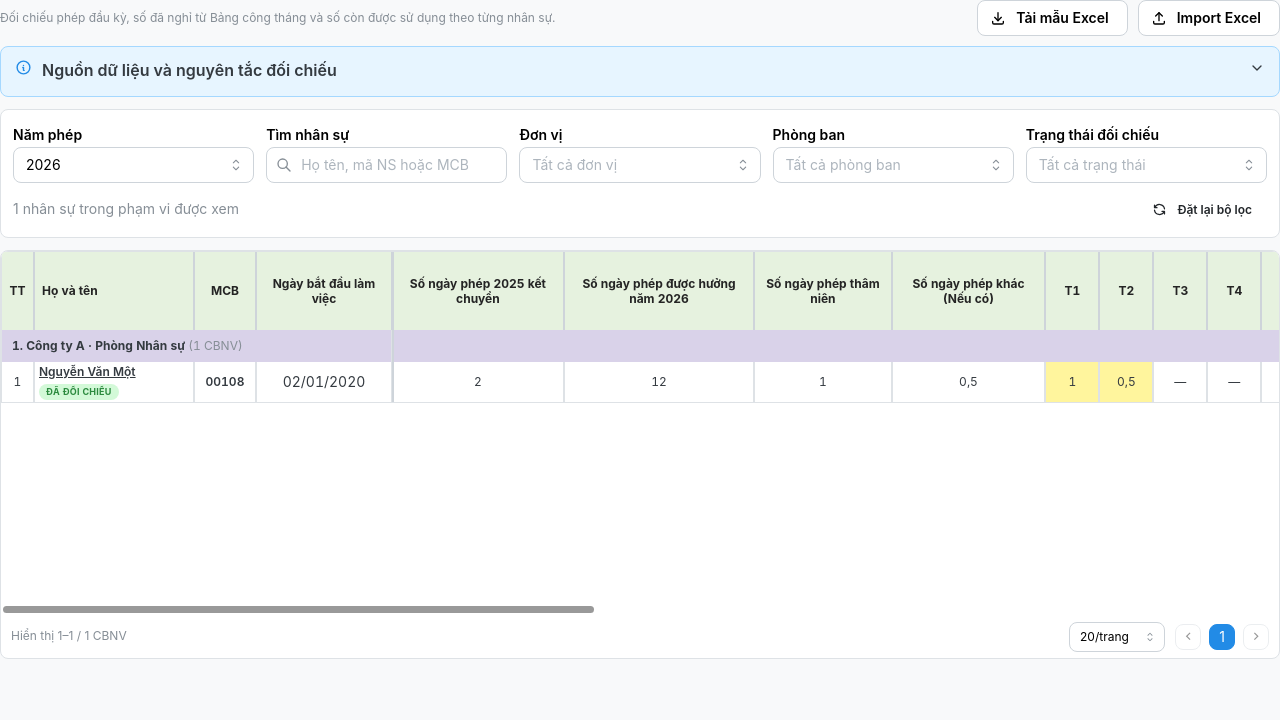
Test: AnnualLeaveBalancesPage › explains when the same import batch is reused and prevents a committed replay
Click the button "Import Excel" at coordinates (1209, 18), box [1138,0,1279,36]
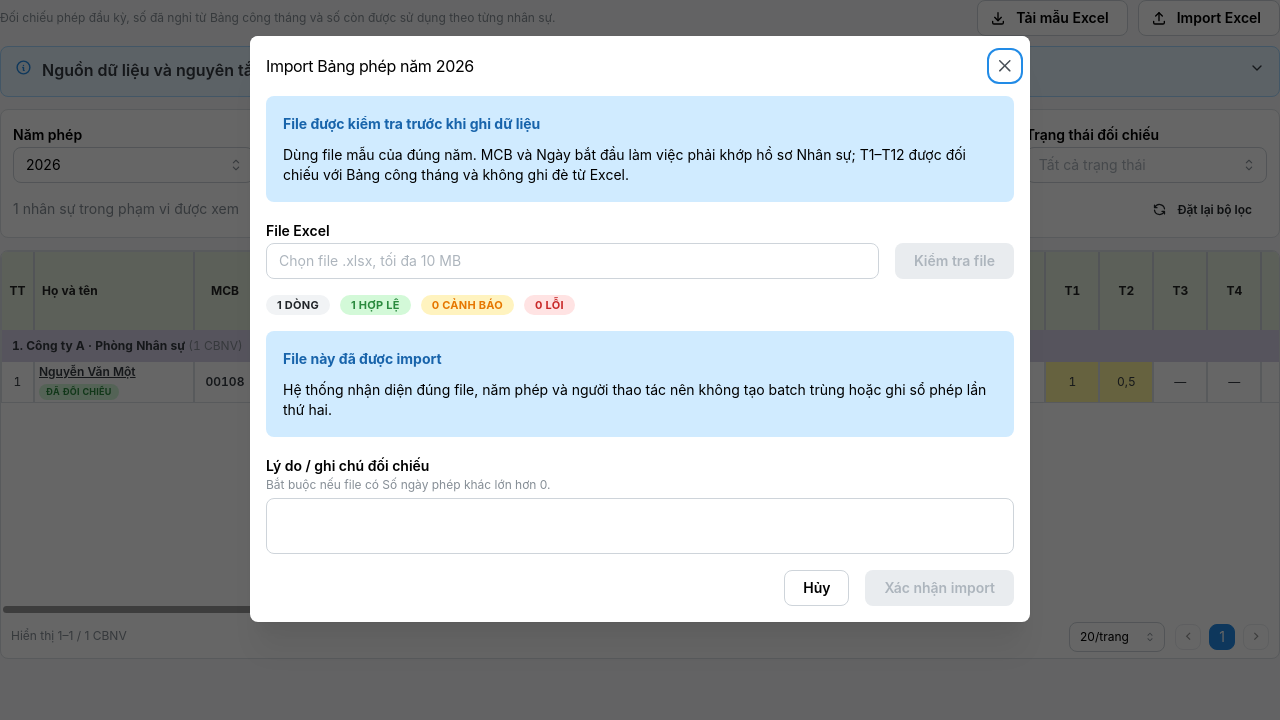
Expected: the text "File này đã được import" is shown, [283,348,442,370]
Expected: the button "Xác nhận import" is disabled, [865,570,1014,606]
